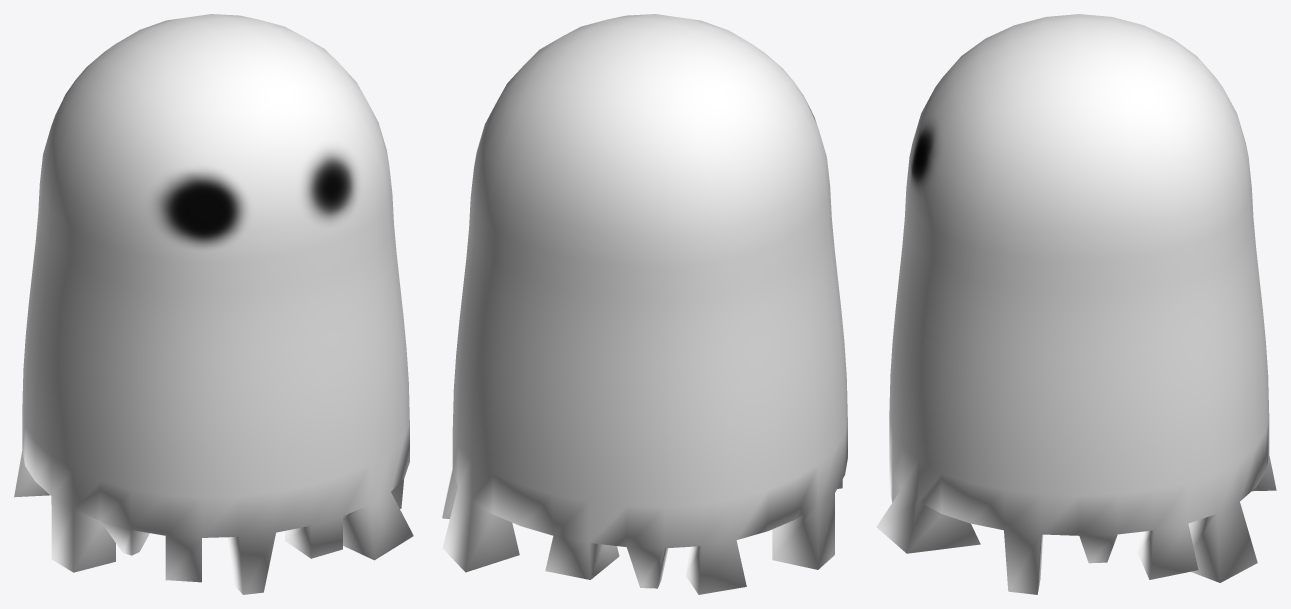
The model's file is ghost.glb.
3 renders of one model, left to right at view 1: azimuth 30°, elevation 25°; view 2: azimuth 150°, elevation 25°; view 3: azimuth 270°, elevation 25°, orthographic. The views are drawn at different scales.
Parts seen in each view (by area): view 1: Cube; view 2: Cube; view 3: Cube.
Boxes of the visible parts, bbox=[...] form: Cube: bbox=[14, 14, 413, 594]; Cube: bbox=[442, 14, 847, 594]; Cube: bbox=[876, 14, 1276, 594].
Size of the model in its own units: 4.89 by 6.92 by 5.14.
Materials: 1 (1 with a texture image).
